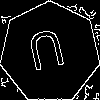U: (25, 28, 70, 82)
